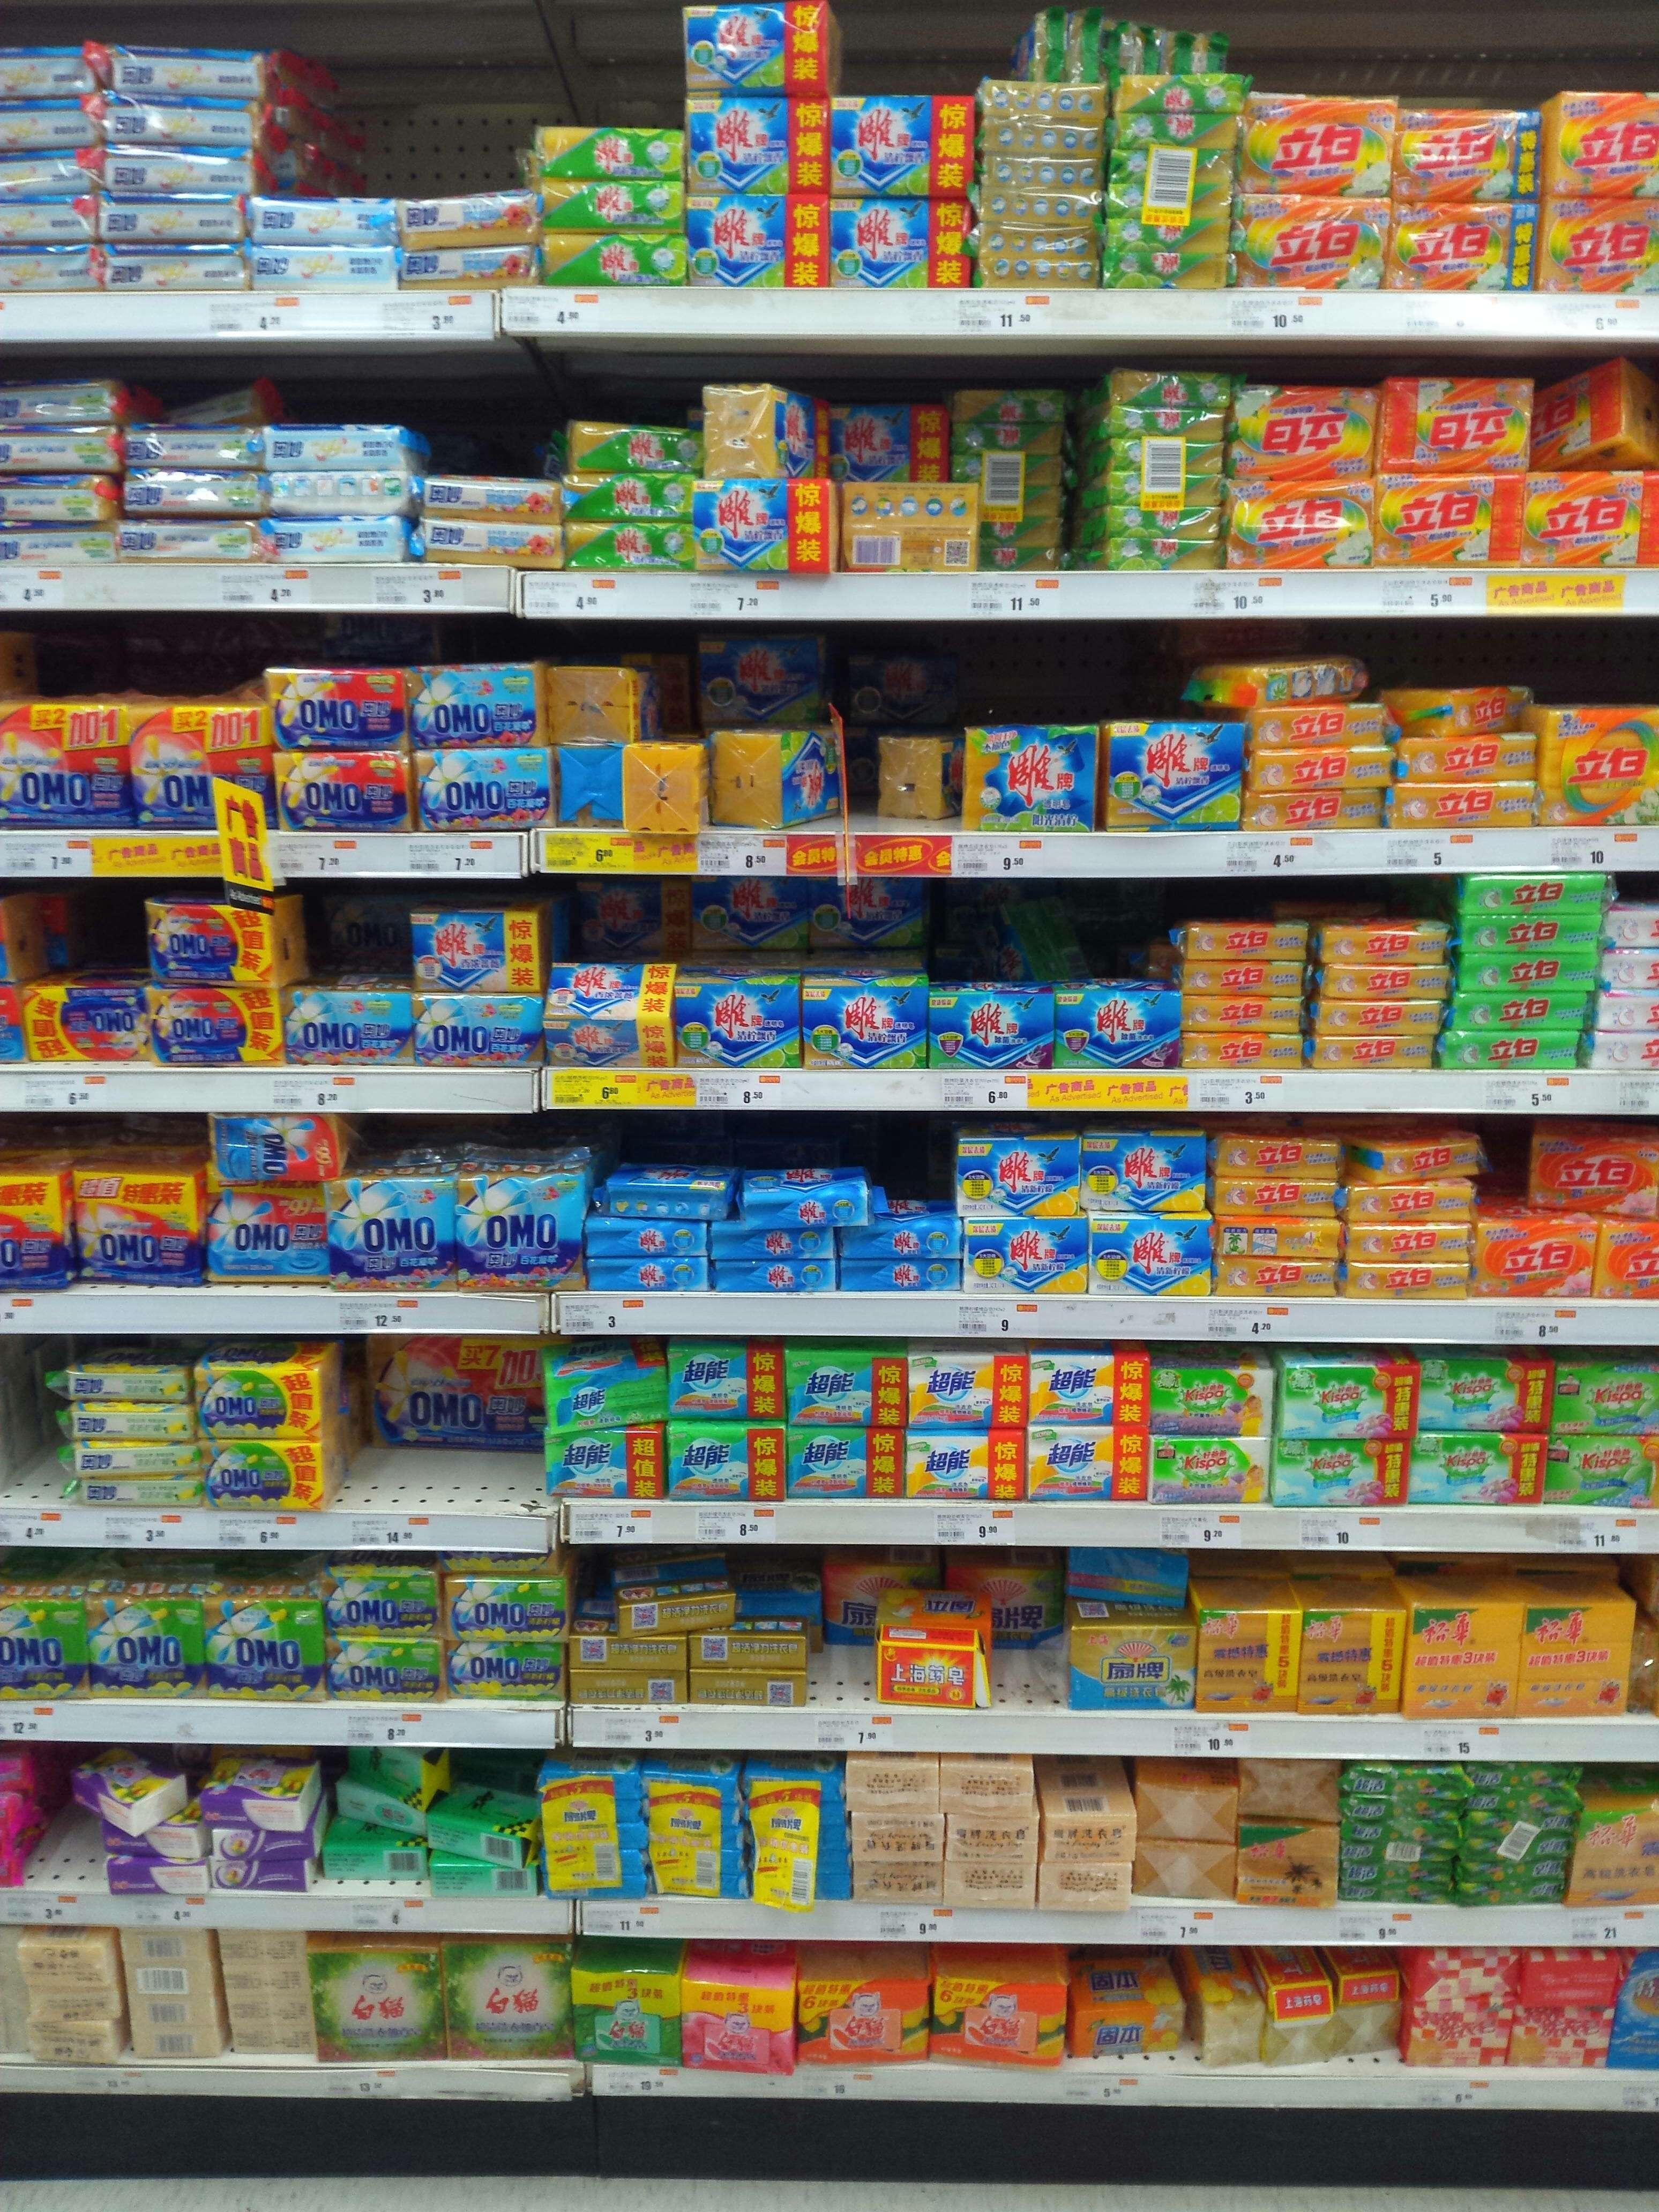misalignment: (1199, 1956, 1398, 2066), (1007, 3, 1241, 80), (840, 470, 986, 573), (430, 1780, 549, 1902), (713, 716, 840, 827), (1525, 1115, 1659, 1217), (186, 1104, 354, 1184), (1185, 646, 1375, 705), (598, 1555, 744, 1632), (1535, 371, 1659, 462), (880, 1625, 999, 1717), (1070, 1961, 1188, 2054), (620, 732, 711, 841), (1345, 1122, 1497, 1183), (873, 718, 960, 820), (739, 1165, 873, 1231), (70, 1752, 188, 1827), (333, 1742, 430, 1832), (1060, 1547, 1188, 1613)
